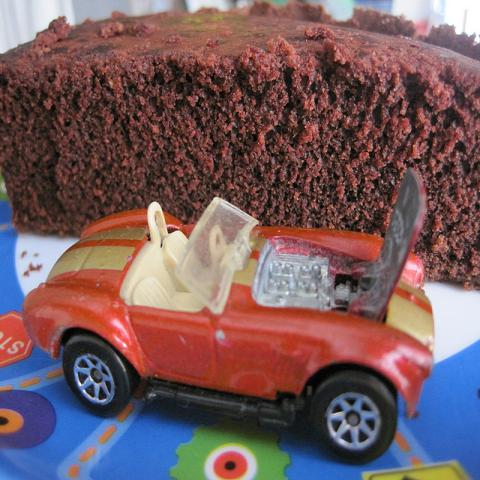car: (21, 168, 436, 452)
